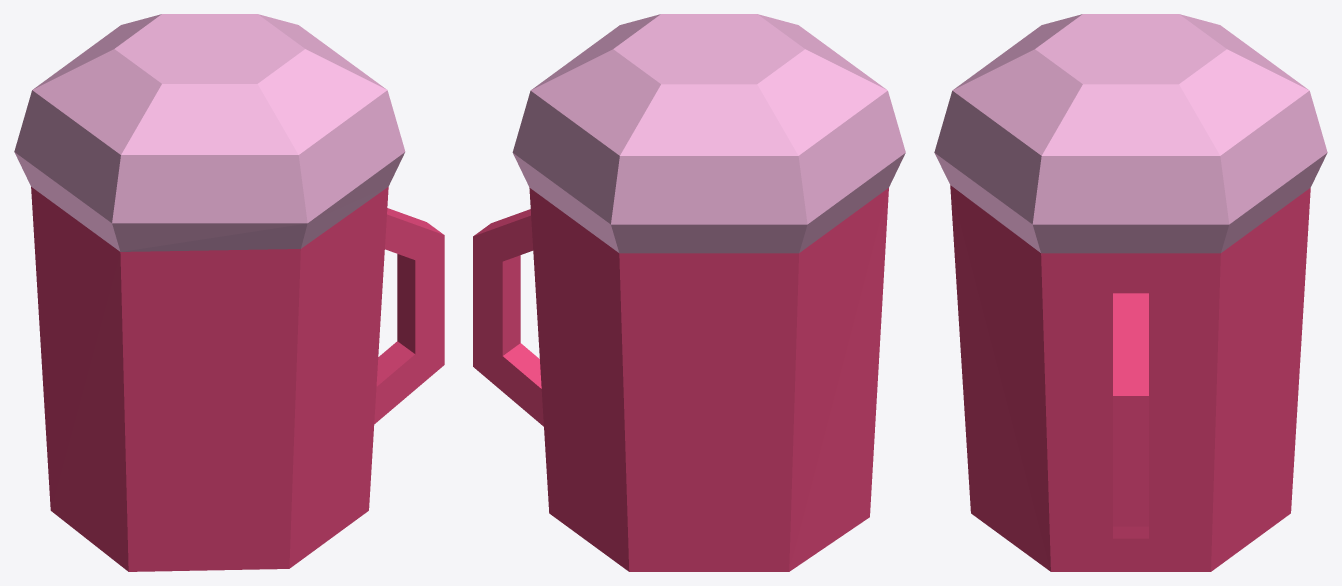
File: cherryBeer.FBX
3 renders of one model, left to right at view 1: azimuth 30°, elevation 25°; view 2: azimuth 150°, elevation 25°; view 3: azimuth 270°, elevation 25°, orthographic.
Parts seen in each view (by area): view 1: cup; view 2: cup; view 3: cup.
Boxes of the visible parts, left/top/right/bottom form: cup: left=14, top=14, right=444, bottom=571; cup: left=473, top=14, right=905, bottom=571; cup: left=934, top=14, right=1327, bottom=571.
Bounding box in the file's own units: 24.06 × 28.68 × 21.88.
